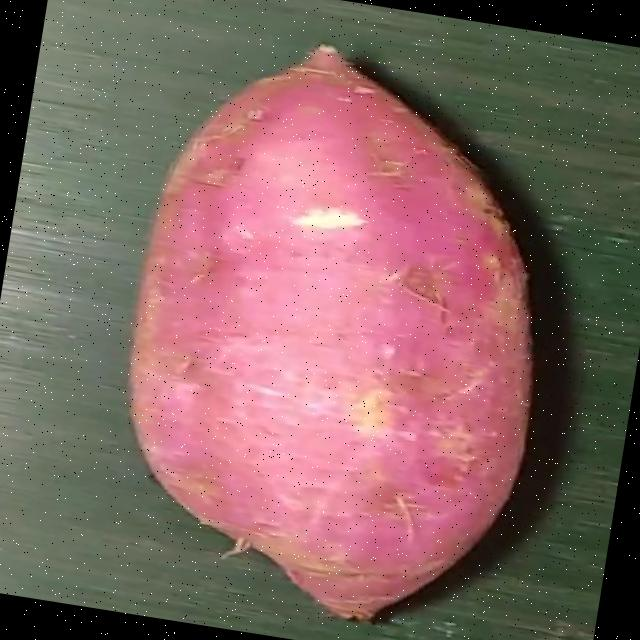Sweet Potato: (127, 42, 535, 622)
